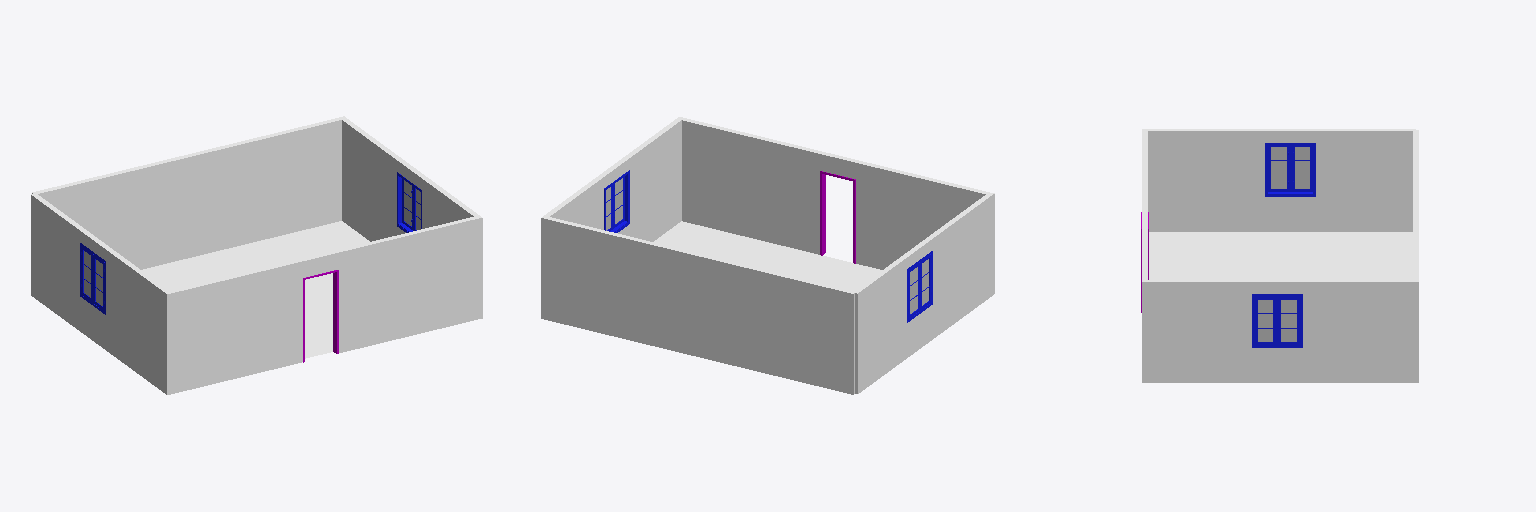
The model's file is house01.obj.
The picture shows the model from 3 angles: view 1: azimuth 30°, elevation 25°; view 2: azimuth 150°, elevation 25°; view 3: azimuth 270°, elevation 25°; orthographic projection.
Parts seen in each view (by area): view 1: wall_3_52, wall_5_63, wall_2_46, room_1_42, wall_4_57, Montant_1; view 2: wall_5_64, wall_3_51, wall_2_46, wall_4_57, room_1_42, Montant_1; view 3: wall_4_58, wall_2_45, room_1_42, CageIn_25, sweethome3d_window_pane_on_hinge_1_33, sweethome3d_window_pane_on_hinge_1_13, sweethome3d_window_pane_on_hinge_2_41, sweethome3d_window_pane_on_hinge_2_21, CageOut_4.
Part boxes in pixels (x1,y1,x2,y2): wall_3_52: (167,218,482,394); wall_5_63: (38,120,341,269); wall_2_46: (31,195,166,394); room_1_42: (142,221,369,358); wall_4_57: (342,120,473,241); Montant_1: (303,270,338,362); wall_5_64: (541,218,854,394); wall_3_51: (682,120,985,269); wall_2_46: (855,194,994,393); wall_4_57: (550,120,681,241); room_1_42: (654,221,881,290); Montant_1: (820,171,855,263); wall_4_58: (1142,282,1418,382); wall_2_45: (1148,131,1412,231); room_1_42: (1149,232,1412,279); CageIn_25: (1265,143,1315,196); sweethome3d_window_pane_on_hinge_1_33: (1271,147,1286,188); sweethome3d_window_pane_on_hinge_1_13: (1281,300,1296,341); sweethome3d_window_pane_on_hinge_2_41: (1295,147,1309,188); sweethome3d_window_pane_on_hinge_2_21: (1258,300,1272,341); CageOut_4: (1252,294,1302,347).
Bounding box in the file's own units: 817 × 250 × 623.